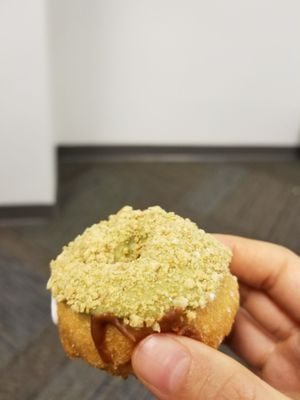soup: (48, 206, 240, 378)
